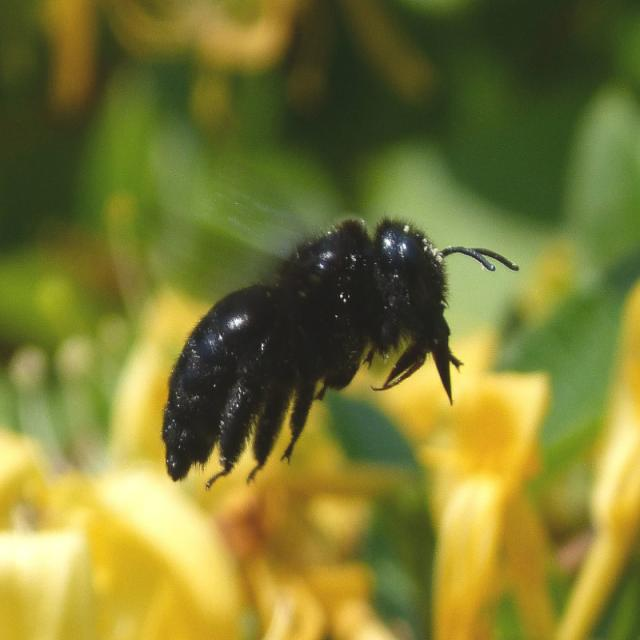Xylocopa: (130, 189, 534, 510)
